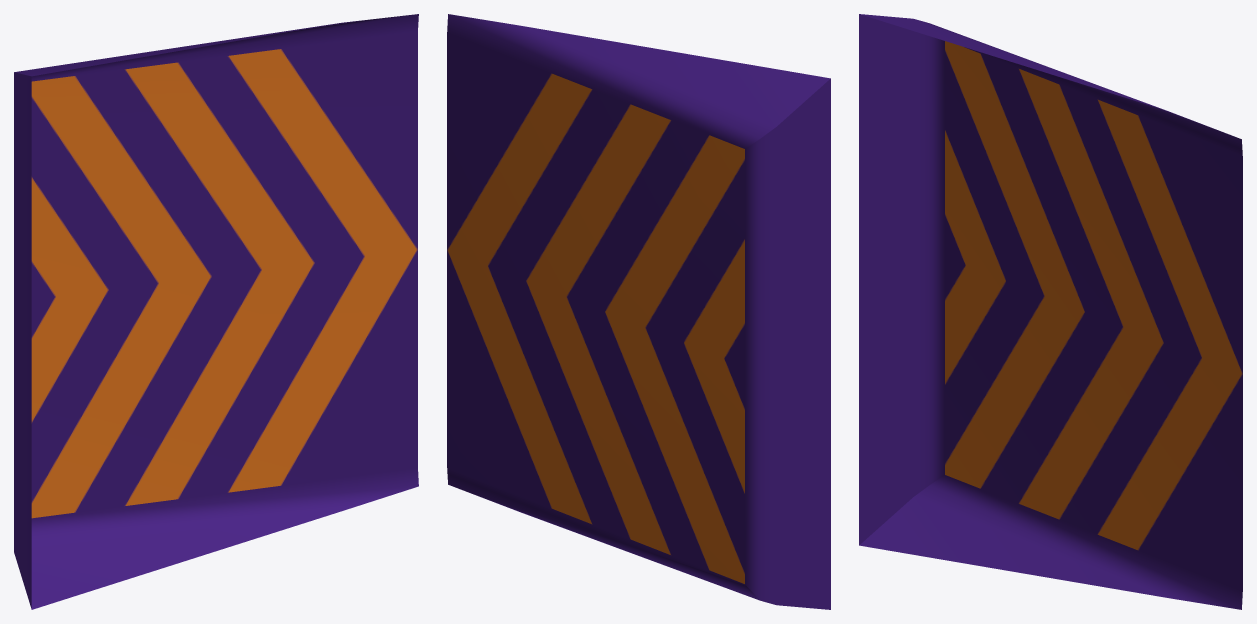
The model's file is landingRamp.fbx.
The picture shows the model from 3 angles, left to right: view 1: azimuth 30°, elevation 25°; view 2: azimuth 150°, elevation 25°; view 3: azimuth 330°, elevation 25°; orthographic projection.
Parts seen in each view (by area): view 1: landingRamp; view 2: landingRamp; view 3: landingRamp.
Part boxes in pixels (bbox=[...]): landingRamp: bbox=[14, 14, 418, 609]; landingRamp: bbox=[447, 14, 830, 609]; landingRamp: bbox=[859, 14, 1242, 609].
Bounding box in the file's own units: 270 × 357 × 55.99.
Materials: 1 (1 with a texture image).
